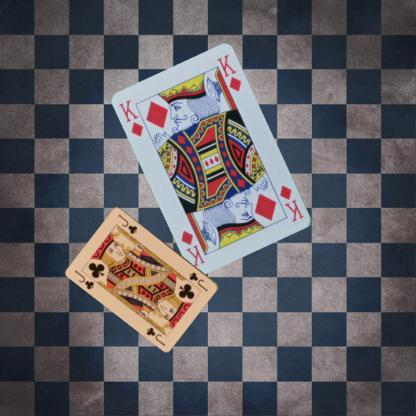Jc: (187, 269, 209, 293), (73, 268, 95, 290)
Kd: (116, 97, 145, 138), (277, 182, 305, 224)
